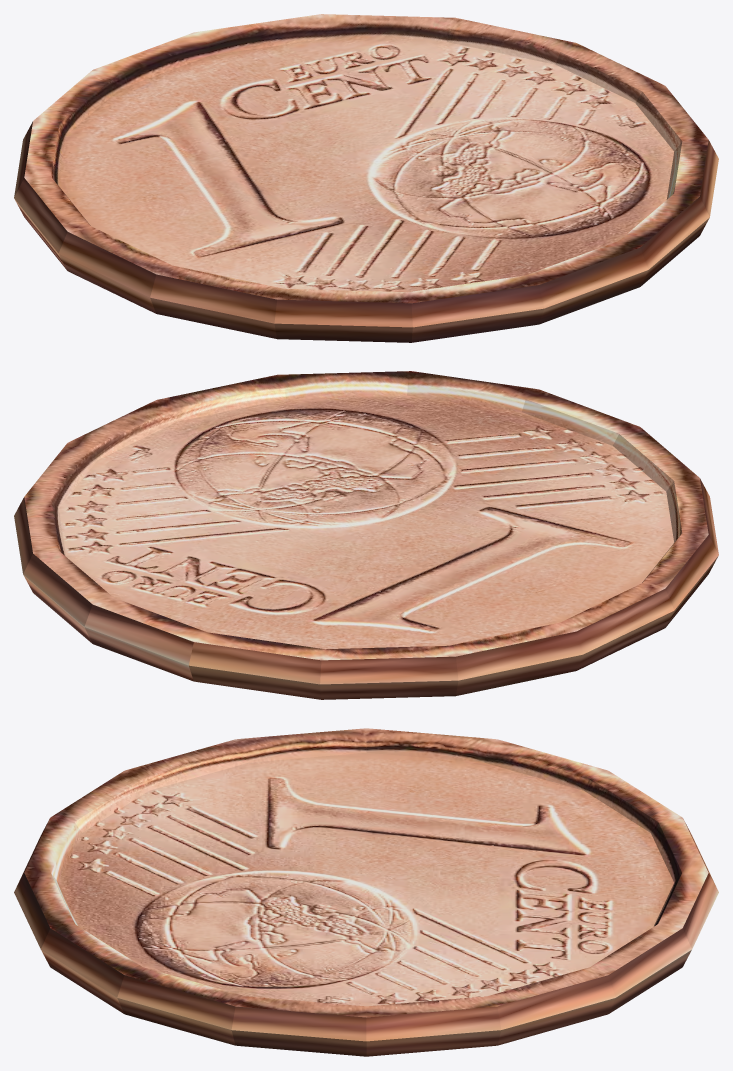
Rendered from centimo.fbx.
3 renders of one model, top to bottom at view 1: azimuth 30°, elevation 25°; view 2: azimuth 150°, elevation 25°; view 3: azimuth 270°, elevation 25°, orthographic.
Visible parts, largest first — view 1: Cylinder.005; view 2: Cylinder.005; view 3: Cylinder.005.
Boxes of the visible parts, <box> form: Cylinder.005: <box>14,14,718,342</box>; Cylinder.005: <box>14,371,718,699</box>; Cylinder.005: <box>14,728,718,1056</box>.
Size of the model in its own units: 24.72 by 1.52 by 24.72.
